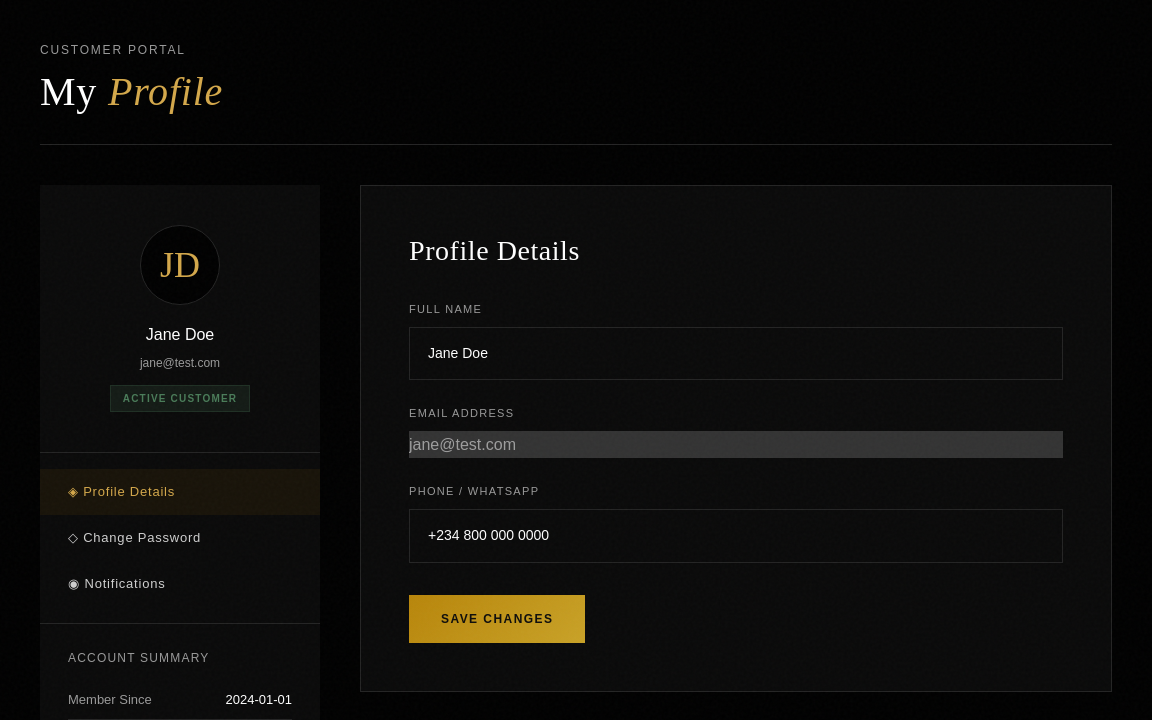
Scenario: ProfilePageContent › switches to password tab
Click the button "◇ Change Password": (180, 538) x1=40 y1=515 x2=320 y2=561
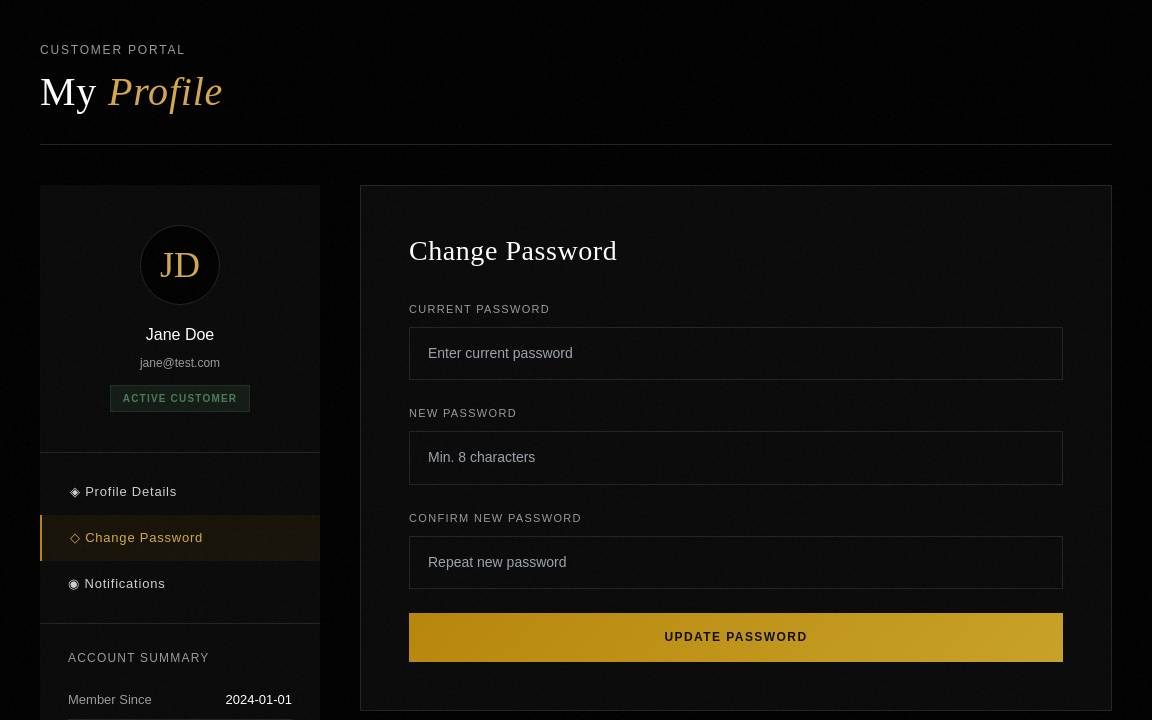
Check: the heading "Change Password" is shown, box x1=409 y1=235 x2=617 y2=266
Check: the password field with placeholder "Enter current password" is shown, box x1=409 y1=327 x2=1063 y2=380
